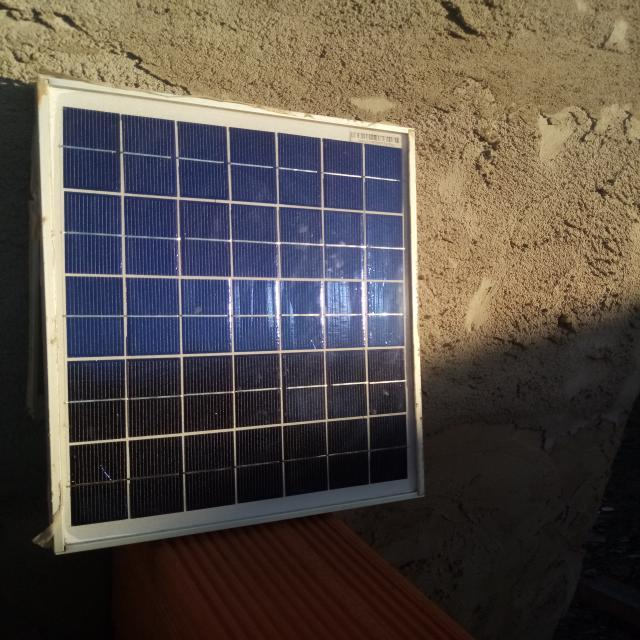no faulty: (41, 77, 421, 552)
